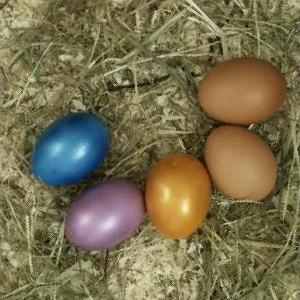egg: (198, 58, 288, 125), (145, 152, 213, 239), (63, 179, 145, 251), (31, 113, 109, 187), (204, 126, 279, 201)
